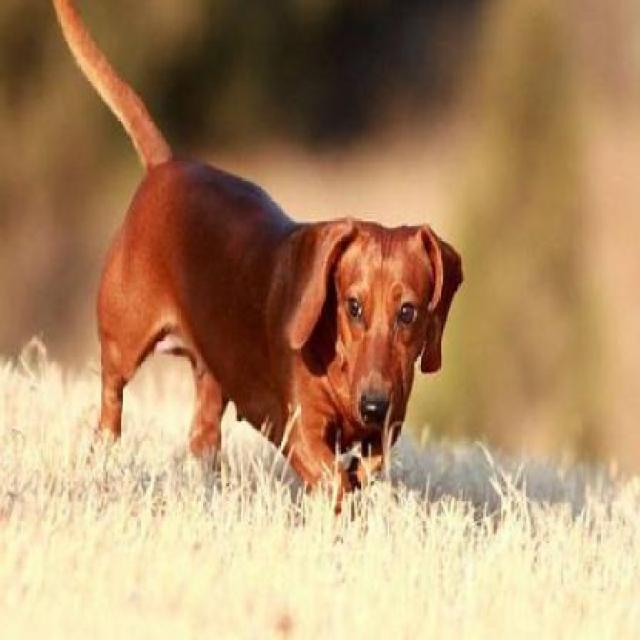Dog: (52, 3, 466, 519)
